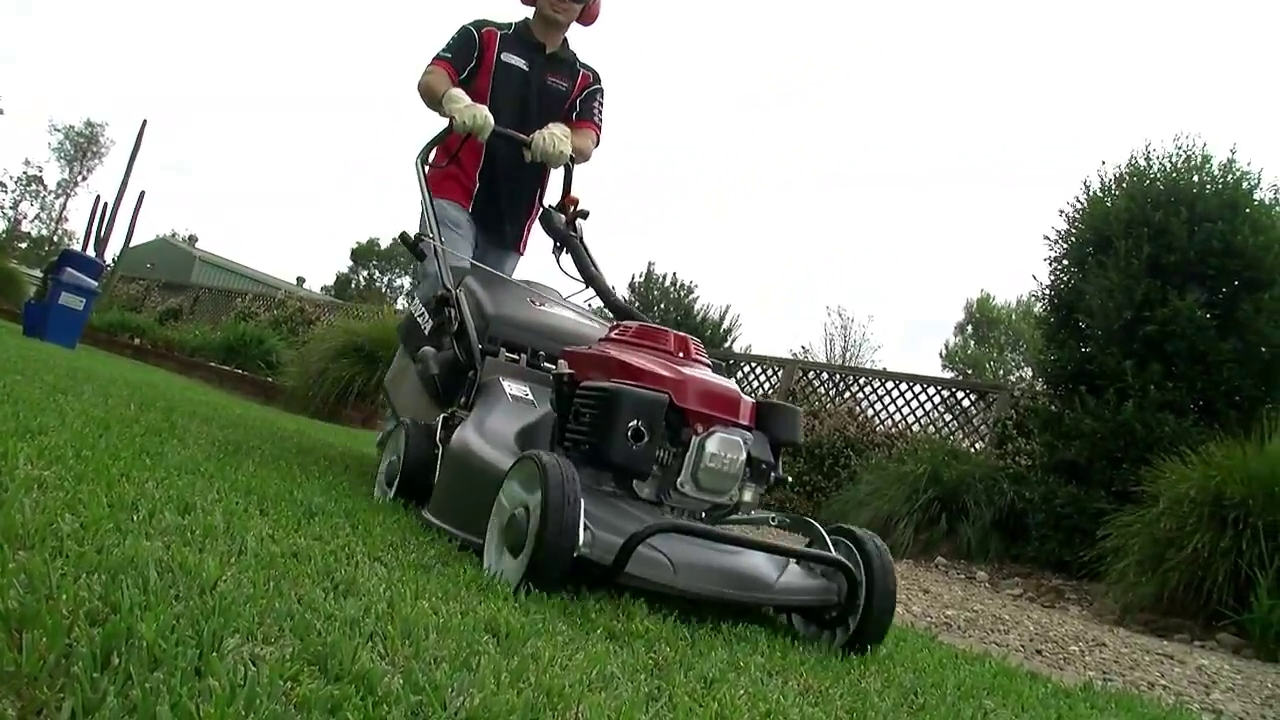person: (415, 1, 606, 300)
